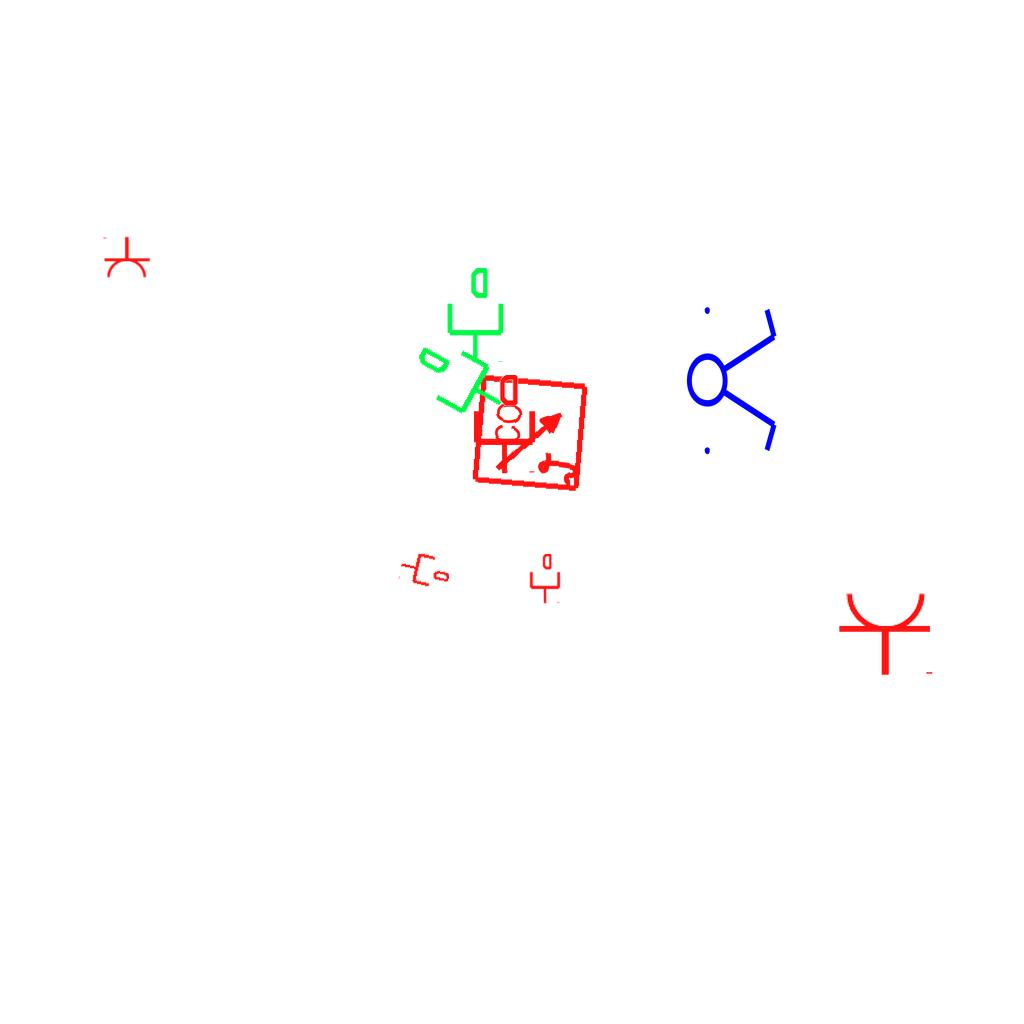Datenanschluss_einfach: (398, 327, 519, 437), (439, 265, 508, 365), (470, 375, 539, 475), (396, 547, 454, 593), (528, 554, 562, 604)
ROA_Rauchmelder_optisch_mit_Signalgeber_(Sockelsirene): (470, 371, 593, 494)
Schukosteckdose_einfach: (837, 590, 937, 677), (101, 236, 151, 279)
Serienschalter: (685, 295, 781, 463)
